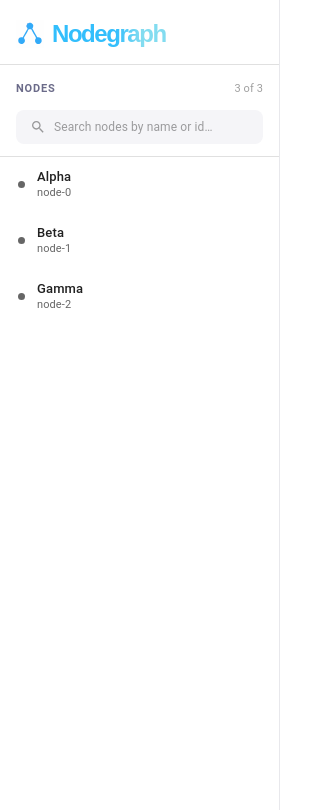
Test: SidePanel component › search › should filter nodes by name
Type "Alpha" into the field with placeholder "Search nodes by name or id…".
click(158, 127); type("Alpha")  # box [54,110,263,144]
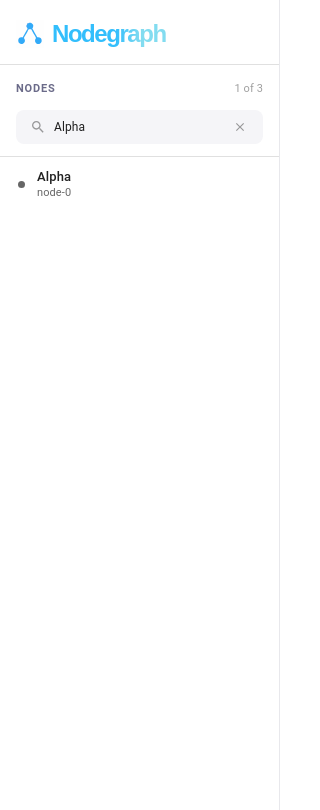
Expected: the text "Alpha" is shown, [37,169,71,184]
Expected: the text "1 of 3" is shown, [234,81,263,98]
Expected: the option "Beta" is gone
